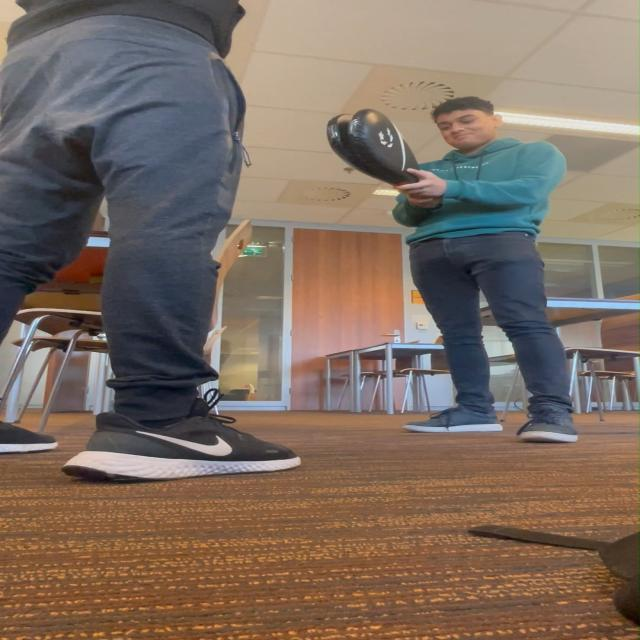paddle: (330, 111, 419, 181)
